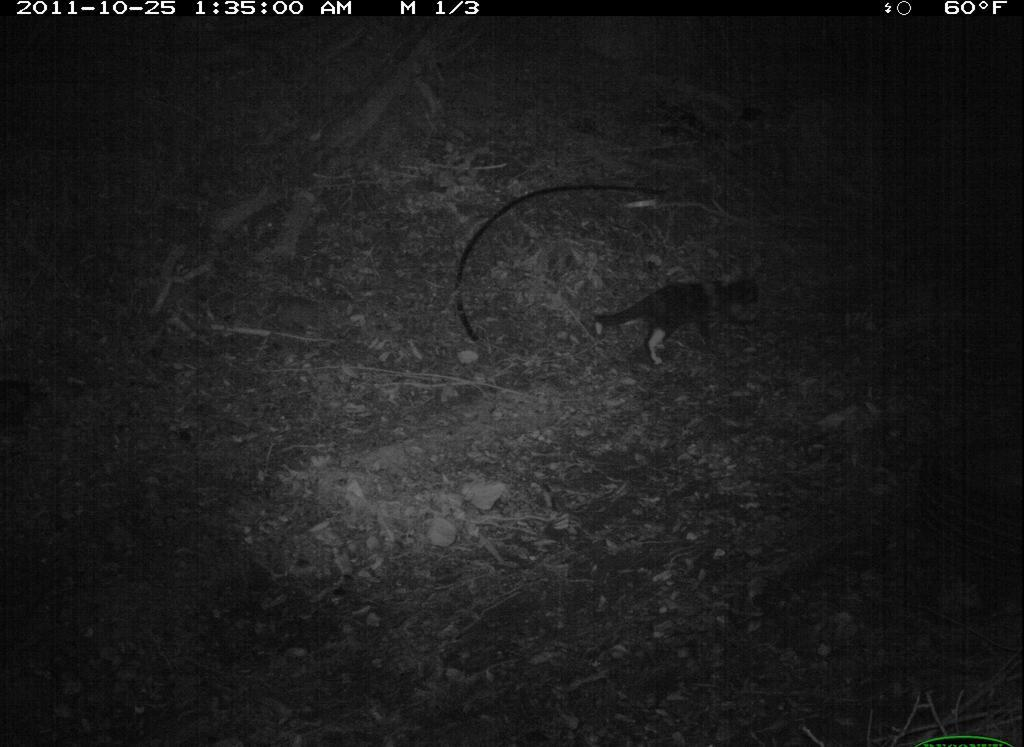cat: (582, 265, 779, 374)
